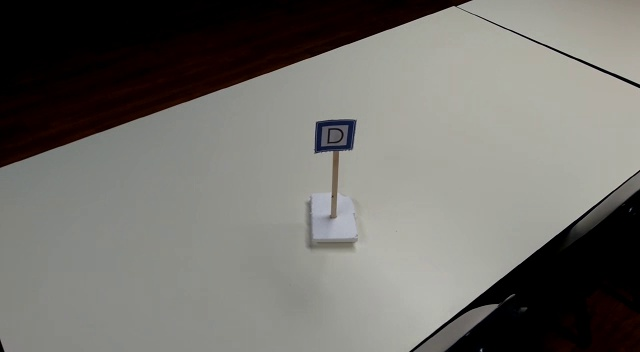durak: (314, 120, 355, 153)
